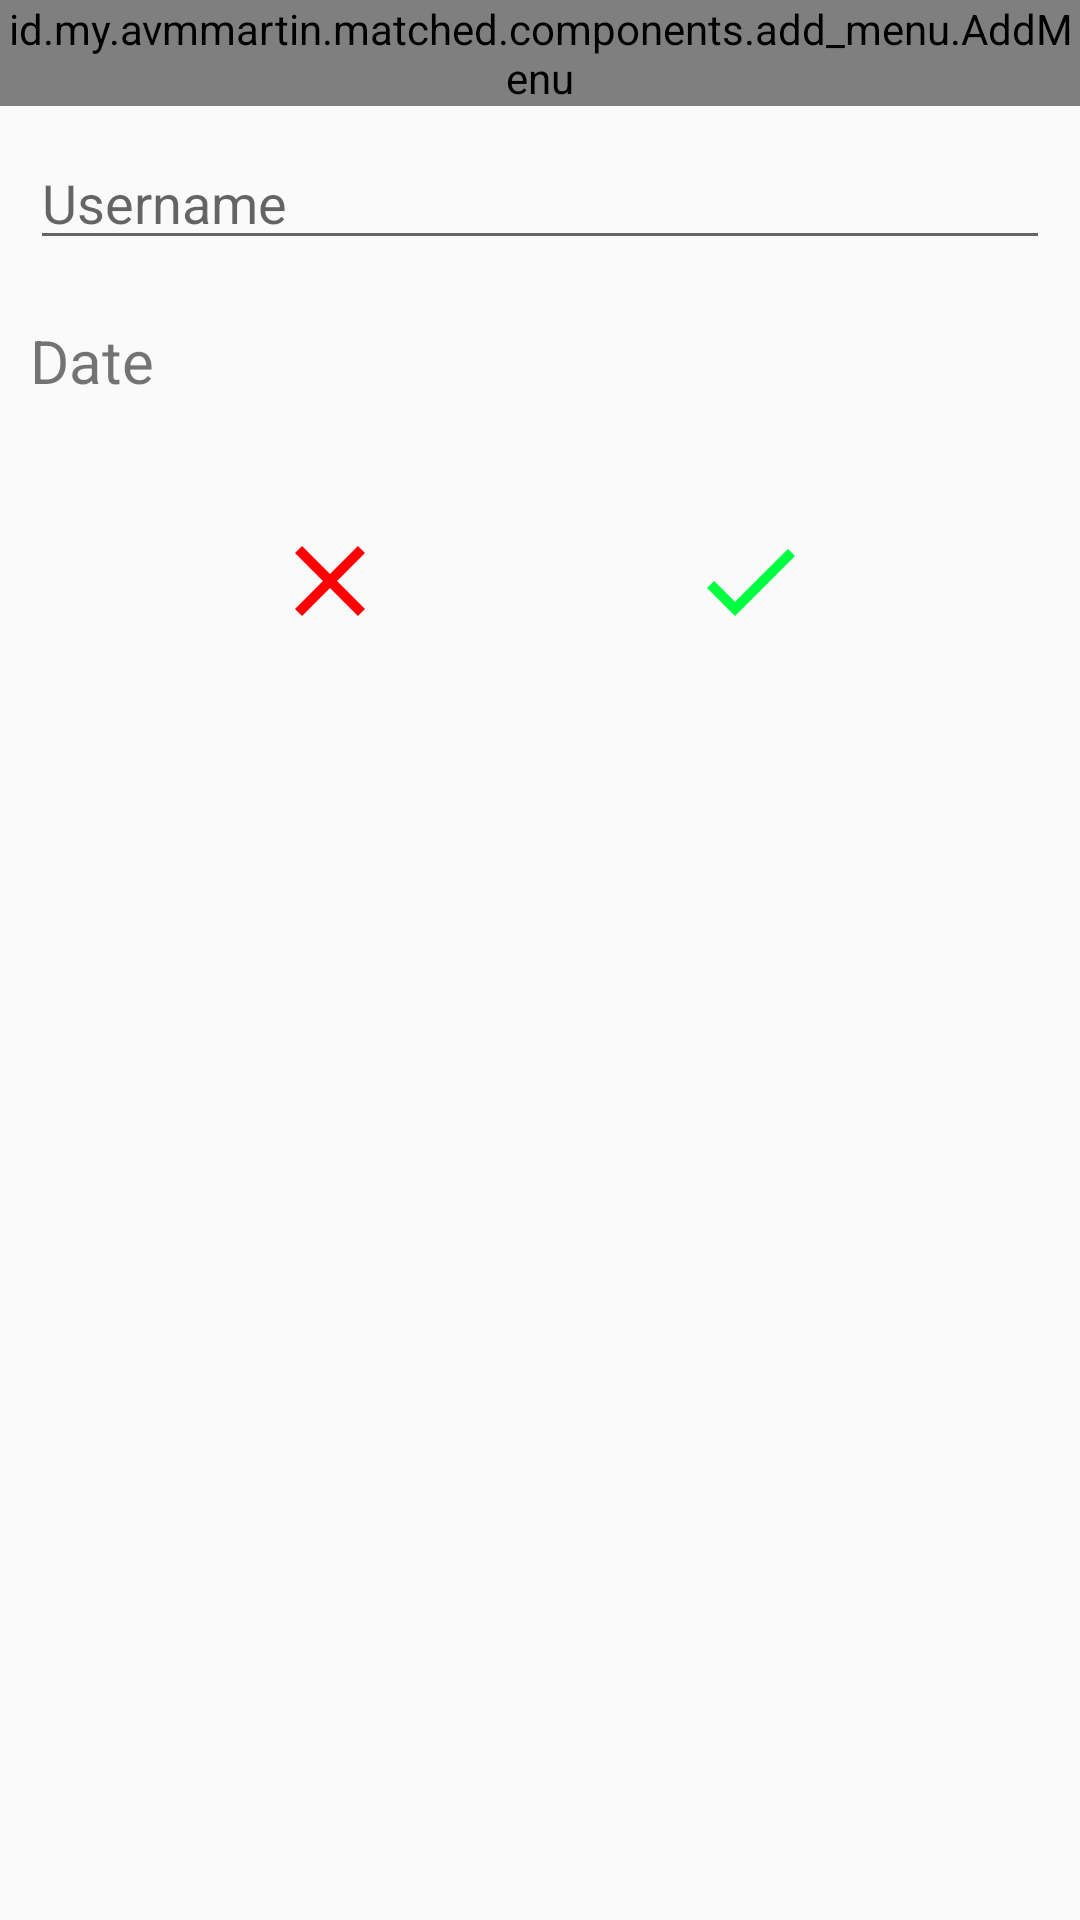

Where icons sit on this 1080x1920 app screen, as (x1, y1, x2, y2):
cancel: (295, 546, 365, 616)
check: (707, 549, 795, 616)
